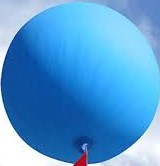Balloon: (1, 1, 159, 165)
